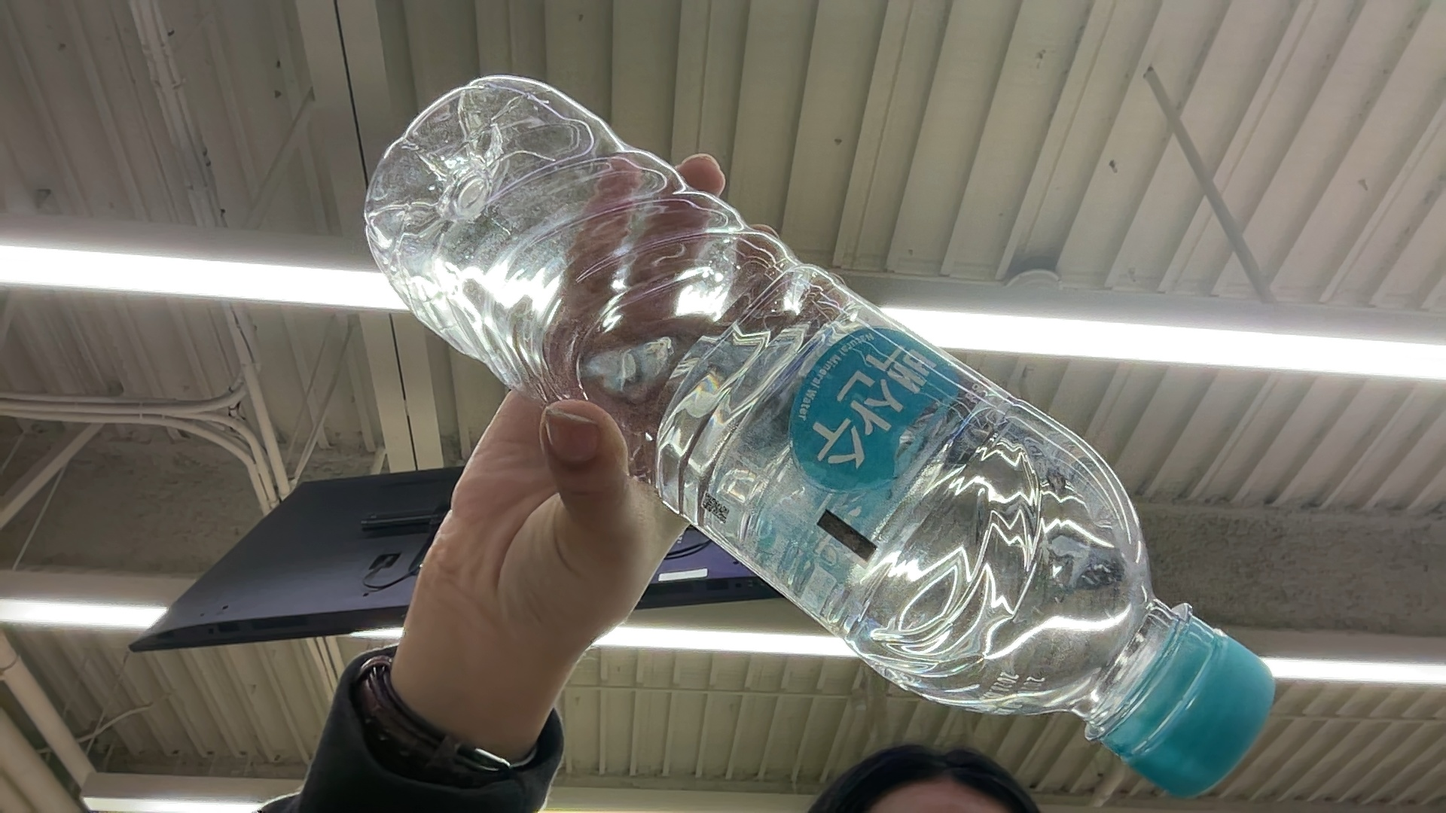Plastic: (355, 53, 1266, 813)
